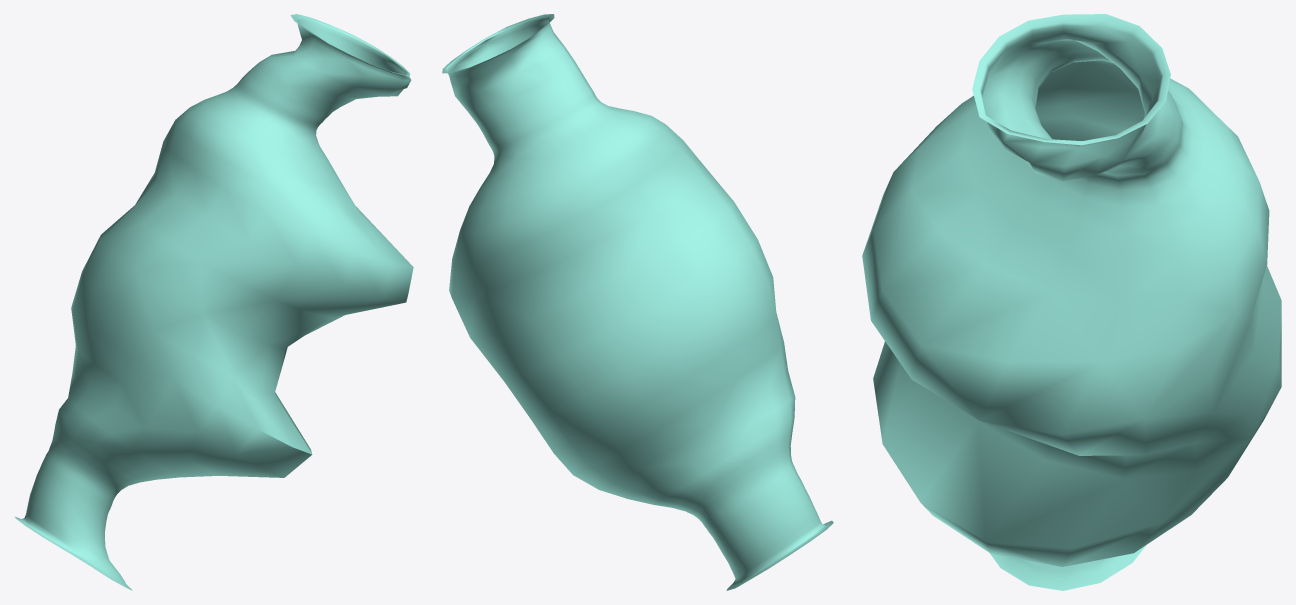
The model's file is baloon_deflated.fbx.
The picture shows the model from 3 angles, left to right: view 1: azimuth 30°, elevation 25°; view 2: azimuth 150°, elevation 25°; view 3: azimuth 270°, elevation 25°; orthographic projection. The views are drawn at different scales.
Parts seen in each view (by area): view 1: baloon_deflated; view 2: baloon_deflated; view 3: baloon_deflated.
Boxes of the visible parts, bbox=[...] form: baloon_deflated: bbox=[14, 14, 413, 590]; baloon_deflated: bbox=[442, 14, 833, 590]; baloon_deflated: bbox=[862, 14, 1281, 590].
Bounding box in the file's own units: 8.17 × 10.67 × 5.76.
